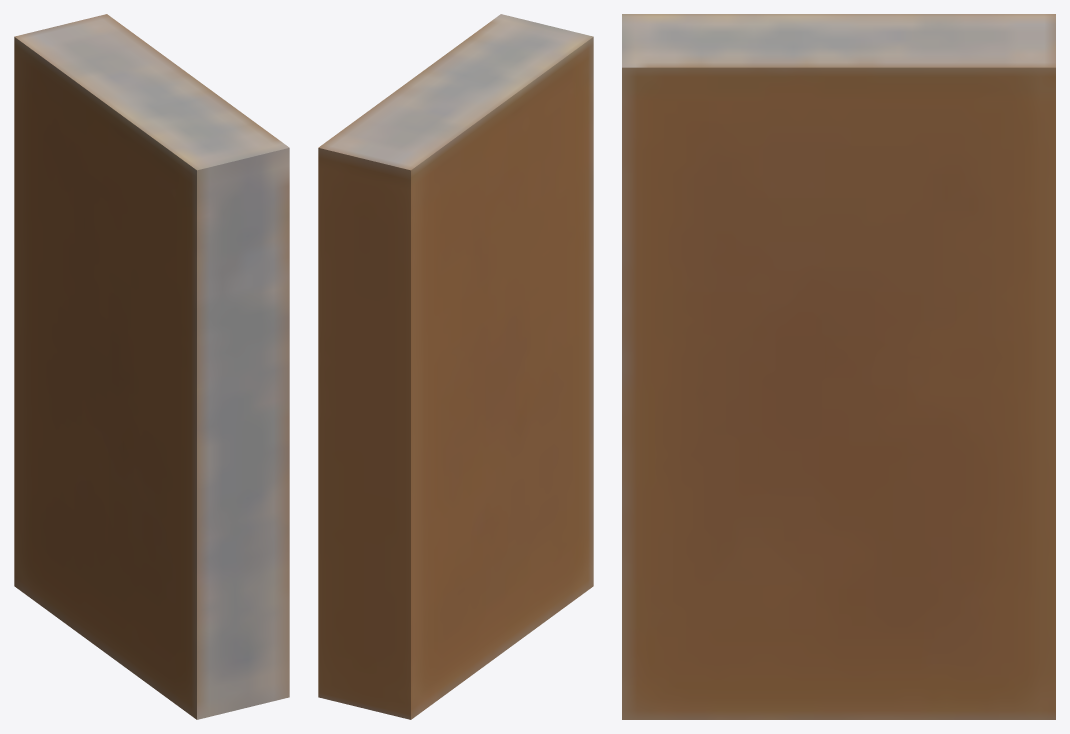
Rendered from Pfb_Indoors_Books__9.fbx.
The picture shows the model from 3 angles, left to right: view 1: azimuth 30°, elevation 25°; view 2: azimuth 150°, elevation 25°; view 3: azimuth 270°, elevation 25°; orthographic projection. The views are drawn at different scales.
Visible parts, largest first — view 1: Mat_Indoors_Books_01; view 2: Mat_Indoors_Books_01; view 3: Mat_Indoors_Books_01.
Boxes of the visible parts, x1=… form: Mat_Indoors_Books_01: x1=14, y1=14, x2=289, y2=719; Mat_Indoors_Books_01: x1=318, y1=14, x2=593, y2=719; Mat_Indoors_Books_01: x1=622, y1=14, x2=1055, y2=719.
Bounding box in the file's own units: 0.0588 × 0.3326 × 0.2005.
1 material, 1 textured.
